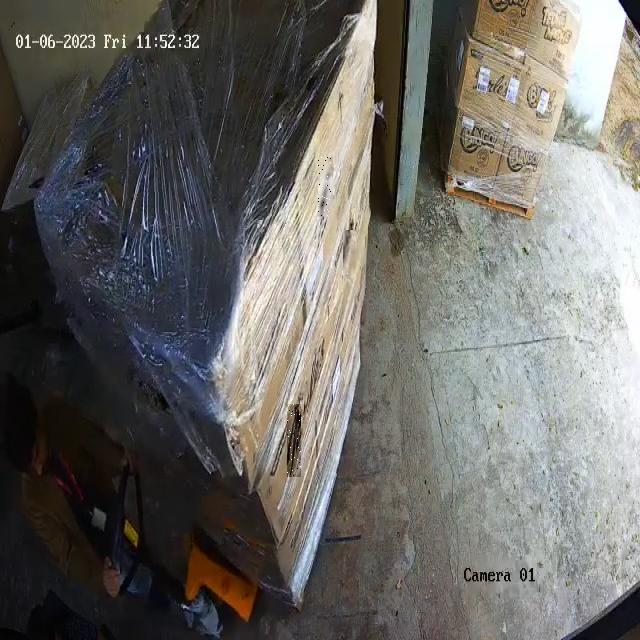leakage: (287, 404, 301, 476), (318, 158, 332, 216), (343, 230, 353, 278)
